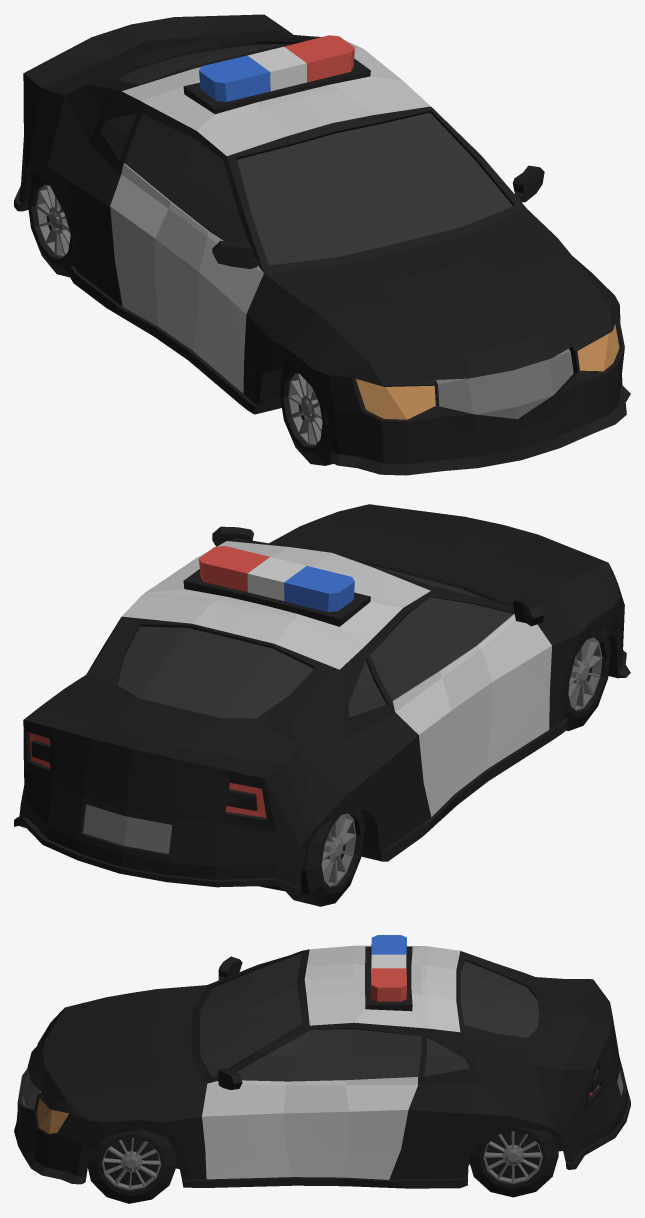
File: policeCar_m_d.glb
The picture shows the model from 3 angles, top to bottom: view 1: azimuth 30°, elevation 25°; view 2: azimuth 150°, elevation 25°; view 3: azimuth 270°, elevation 25°; orthographic projection. The views are drawn at different scales.
Parts seen in each view (by area): view 1: Cop_Cube.001, Cop_FrontWheels_Cylinder.002, Cop_BackWheels_Cylinder.001; view 2: Cop_Cube.001, Cop_BackWheels_Cylinder.001, Cop_FrontWheels_Cylinder.002; view 3: Cop_Cube.001, Cop_FrontWheels_Cylinder.002, Cop_BackWheels_Cylinder.001.
Part boxes in pixels (box(x1,y1,x2,y2)): Cop_Cube.001: box(14, 14, 630, 475); Cop_FrontWheels_Cylinder.002: box(279, 360, 333, 465); Cop_BackWheels_Cylinder.001: box(27, 172, 73, 277); Cop_Cube.001: box(14, 504, 630, 895); Cop_BackWheels_Cylinder.001: box(286, 808, 364, 906); Cop_FrontWheels_Cylinder.002: box(566, 629, 610, 730); Cop_Cube.001: box(14, 935, 630, 1188); Cop_FrontWheels_Cylinder.002: box(88, 1129, 176, 1203); Cop_BackWheels_Cylinder.001: box(469, 1127, 558, 1197).
Bounding box in the file's own units: 1.78 × 1.26 × 3.73.
